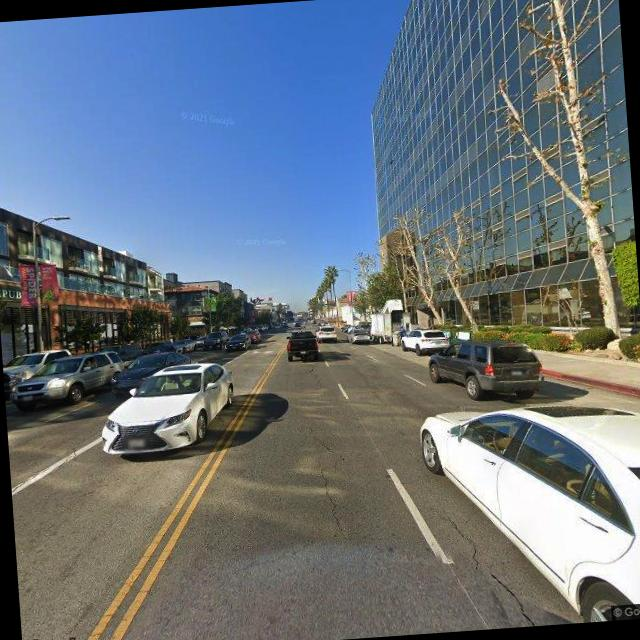crack: (438, 502, 528, 623), (308, 434, 348, 540)
